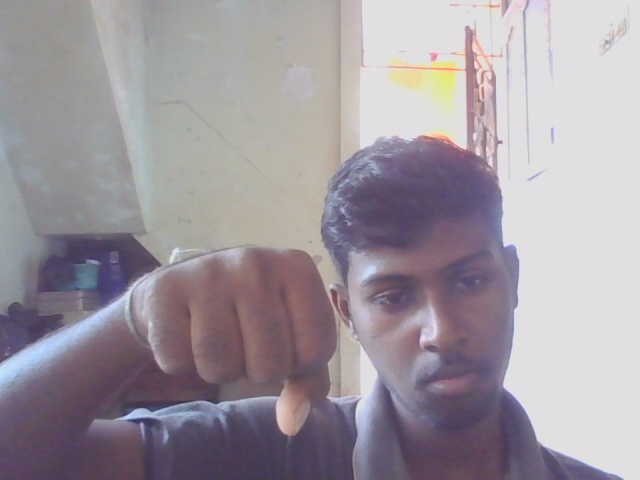No: (112, 237, 348, 449)
